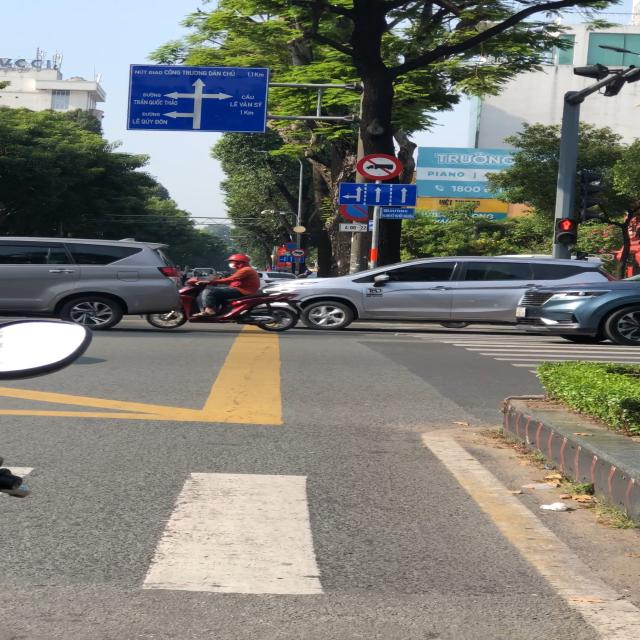Bien bao cam xe so-mi ro-mooc: (356, 151, 406, 180), (288, 247, 310, 259)
